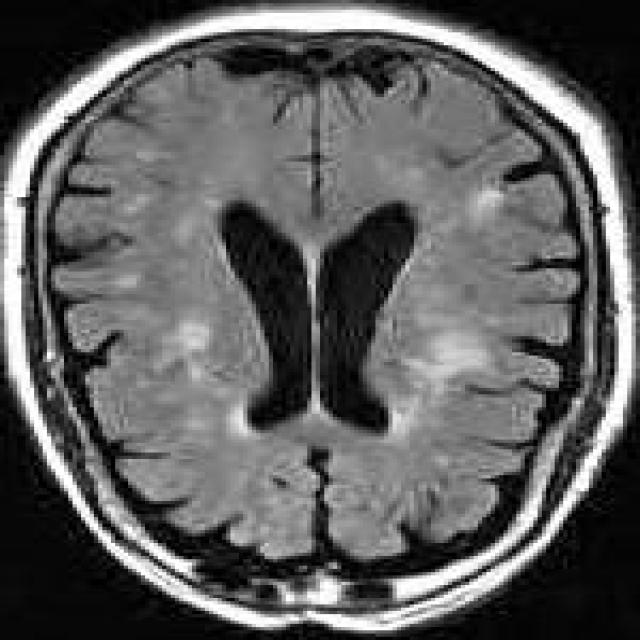no-tumor: (92, 123, 514, 495)
